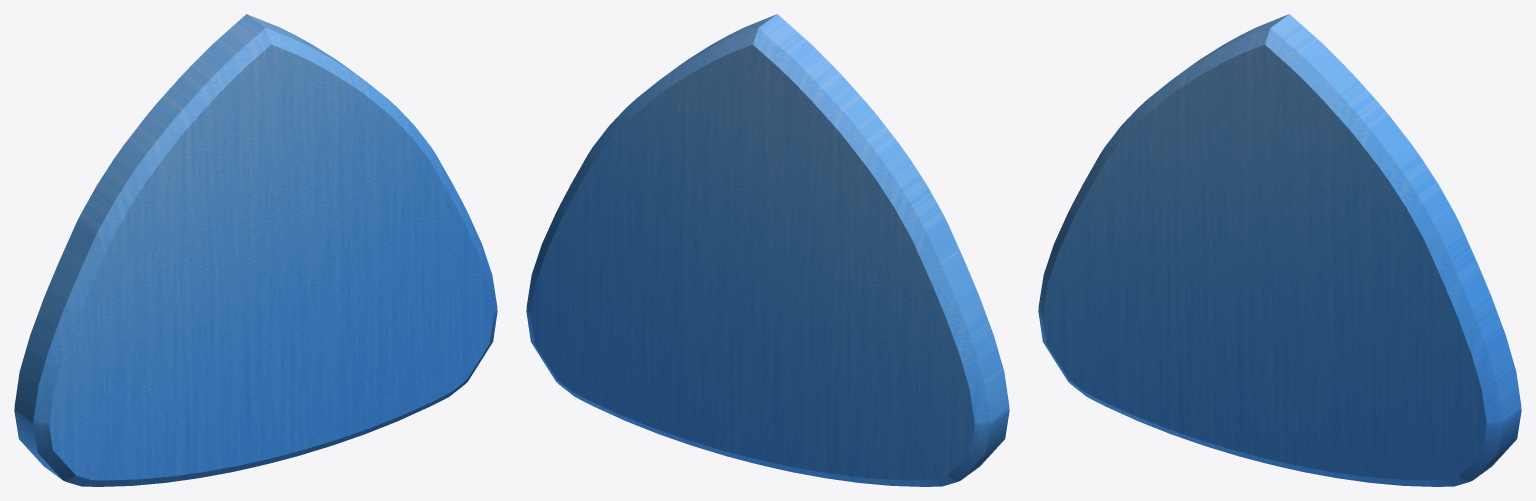
Rendered from Bar_Pumpkins_part_05.fbx.
3 views of the same model, side by side, from view 1: azimuth 30°, elevation 25°; view 2: azimuth 150°, elevation 25°; view 3: azimuth 330°, elevation 25° (orthographic).
Visible parts, largest first — view 1: Bar_Pumpkins_part_05; view 2: Bar_Pumpkins_part_05; view 3: Bar_Pumpkins_part_05.
Boxes of the visible parts, x1,y1,x2,y2 form: Bar_Pumpkins_part_05: (14,14,497,486); Bar_Pumpkins_part_05: (526,14,1009,486); Bar_Pumpkins_part_05: (1038,14,1521,486).
Bounding box in the file's own units: 15.83 × 14.23 × 1.8.
